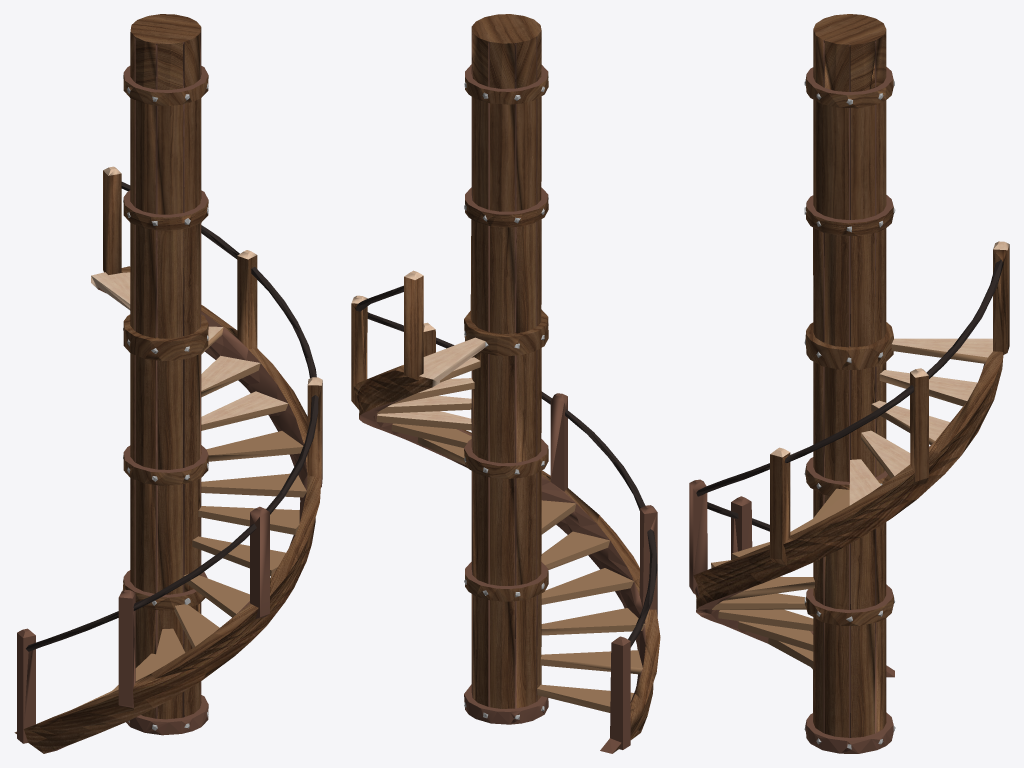
File: staircase-colonna-texture.glb
3 renders of one model, left to right at view 1: azimuth 30°, elevation 25°; view 2: azimuth 150°, elevation 25°; view 3: azimuth 270°, elevation 25°, orthographic. The views are drawn at different scales.
Visible parts, largest first — view 1: staircase completa; view 2: staircase completa; view 3: staircase completa.
Part boxes in pixels (box(x1,y1,x2,y2)): staircase completa: box(14, 14, 322, 753); staircase completa: box(351, 14, 660, 753); staircase completa: box(689, 14, 1009, 753).
Bounding box in the file's own units: 0.7956 × 1.94 × 0.7983.
Materials: 6 (2 with a texture image).
